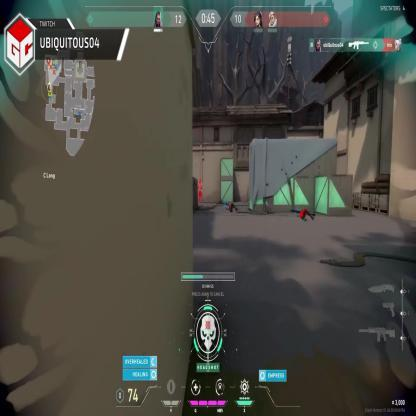enemy: (198, 178, 203, 205)
enemy_head: (199, 179, 202, 185)
